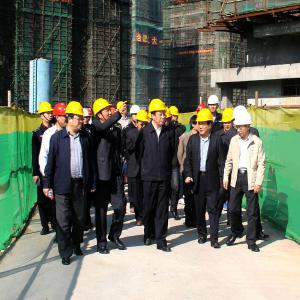none: (190, 116, 201, 133)
red: (54, 103, 69, 128)
white: (234, 111, 252, 139), (208, 95, 220, 113), (131, 105, 141, 124), (83, 108, 90, 127)
yellow: (67, 102, 85, 132), (93, 99, 113, 123), (149, 99, 166, 126), (198, 110, 213, 136), (40, 103, 55, 125), (222, 108, 234, 132), (137, 111, 150, 130), (170, 106, 180, 123), (117, 102, 128, 117), (166, 107, 172, 127)
